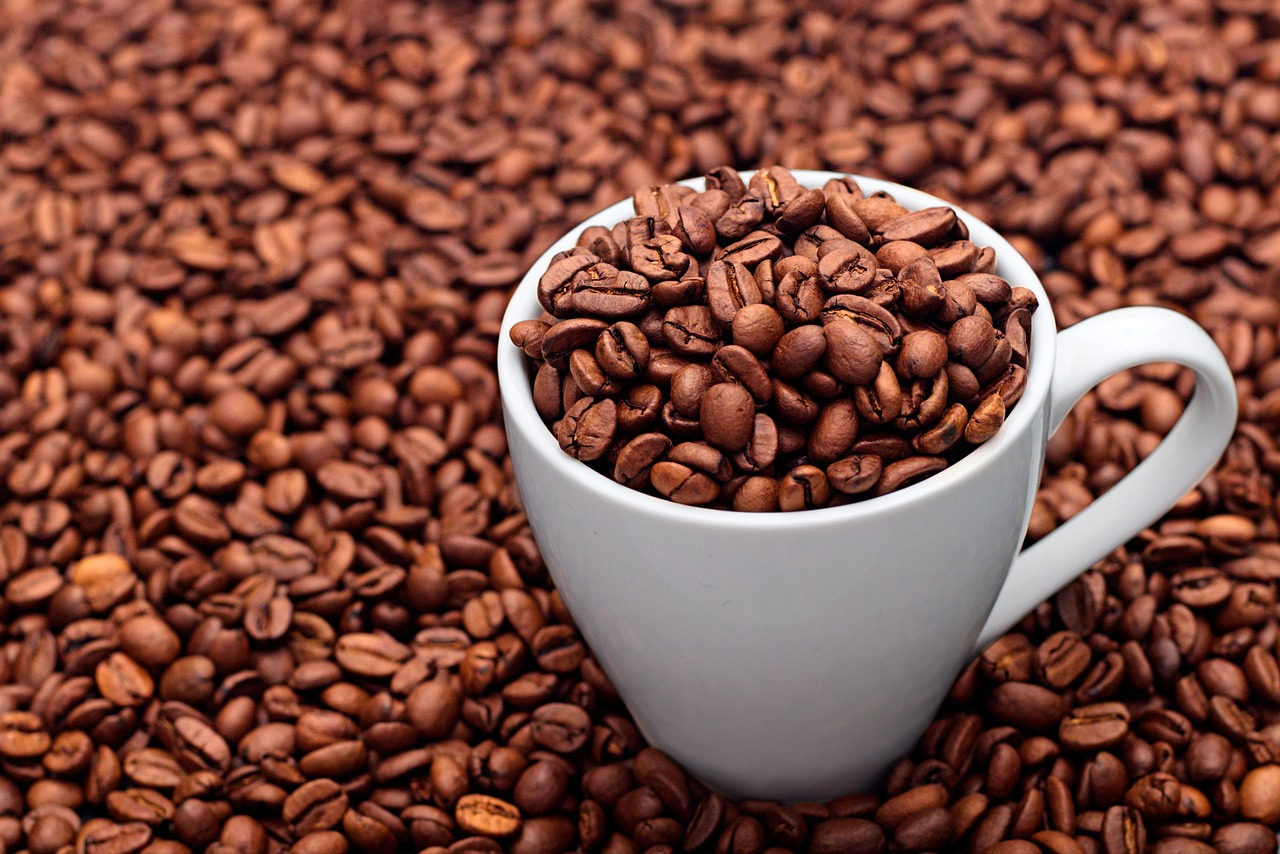mug: (412, 107, 1280, 843)
